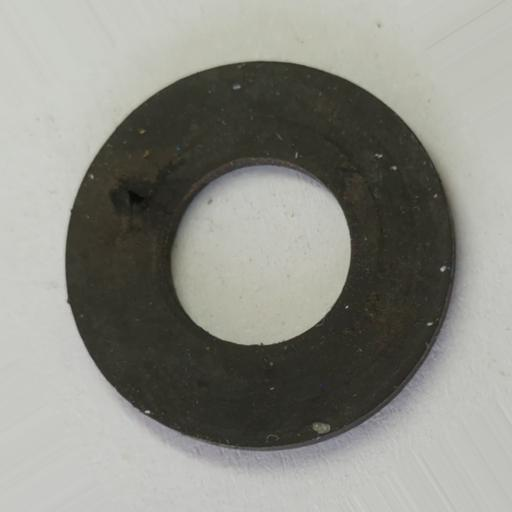defect: (108, 148, 194, 222)
